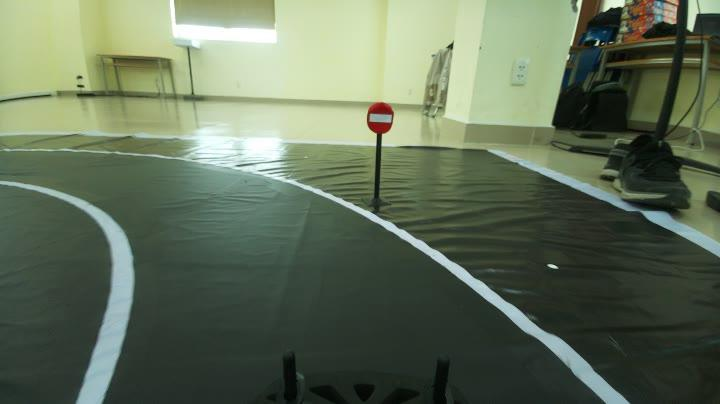no_entry: (368, 99, 406, 140)
